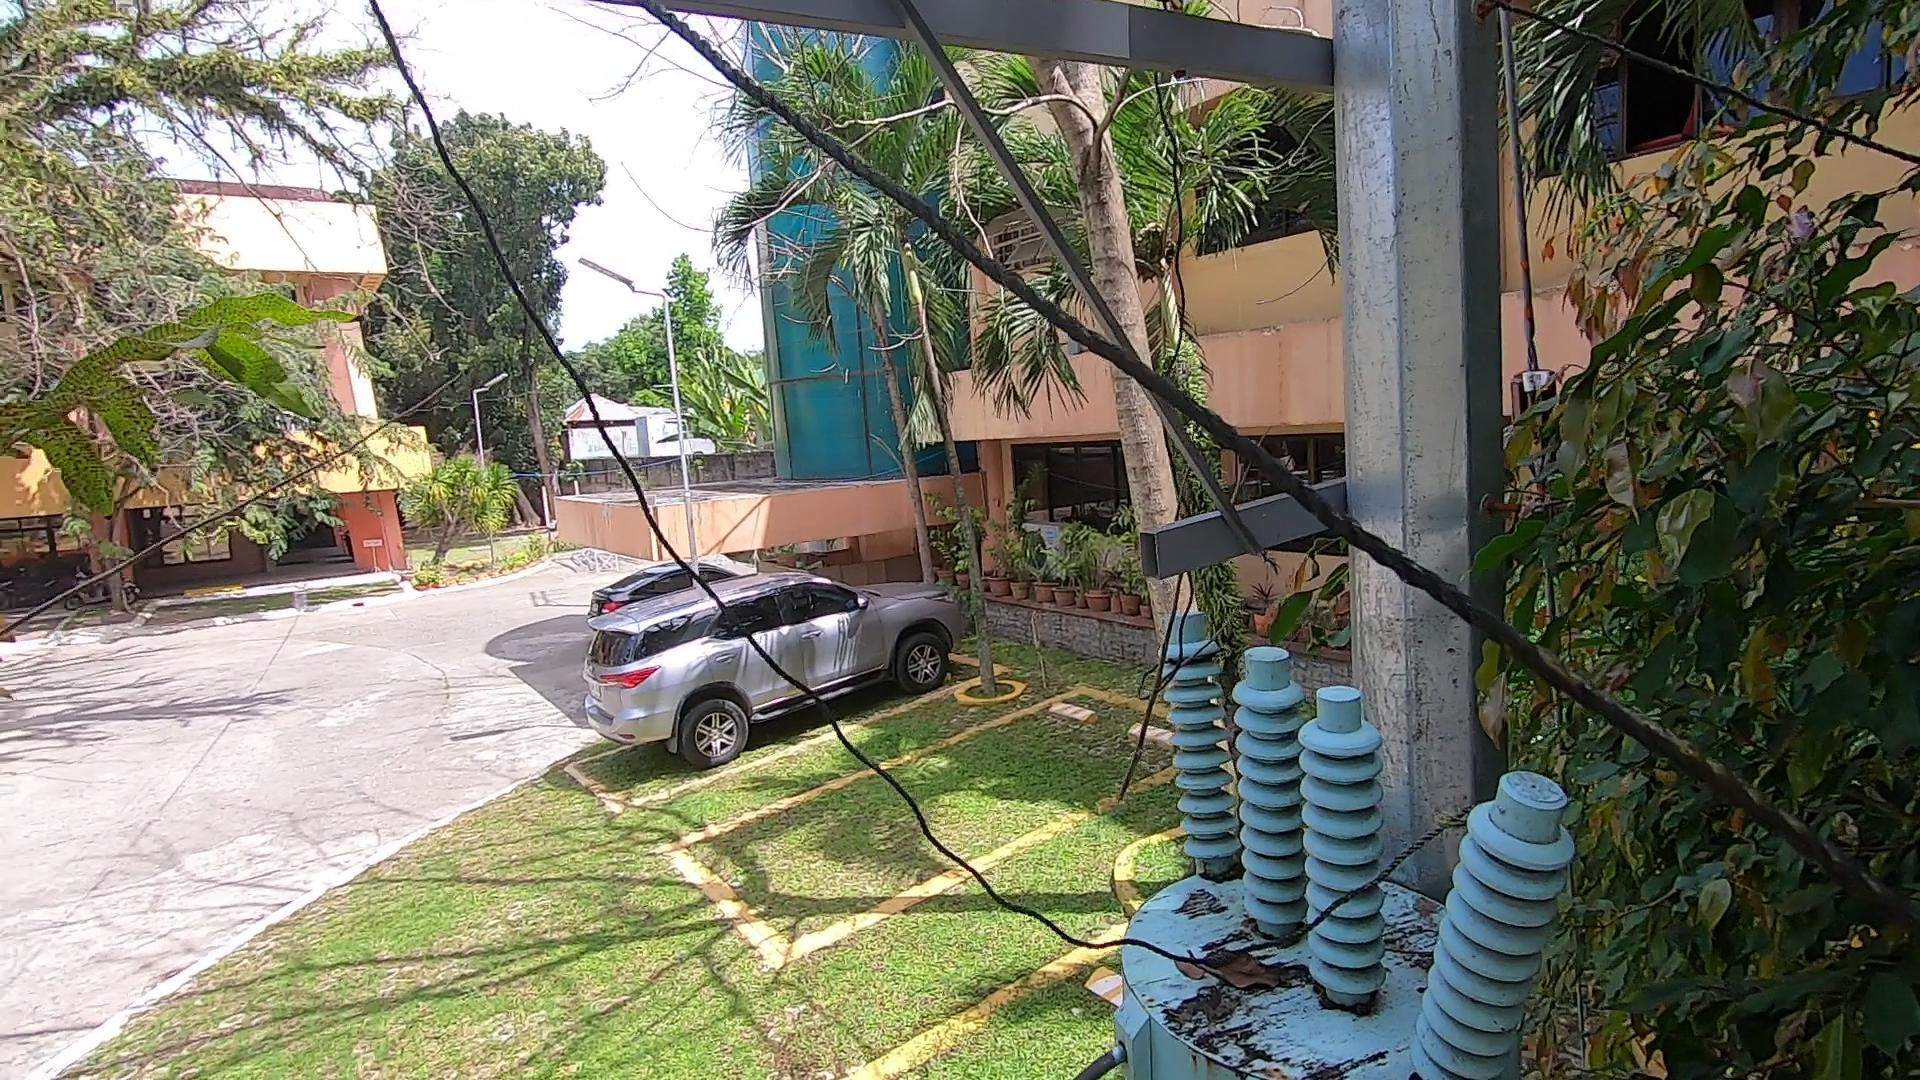leaf: (1178, 932, 1295, 994)
tree branch: (1081, 418, 1283, 810)
